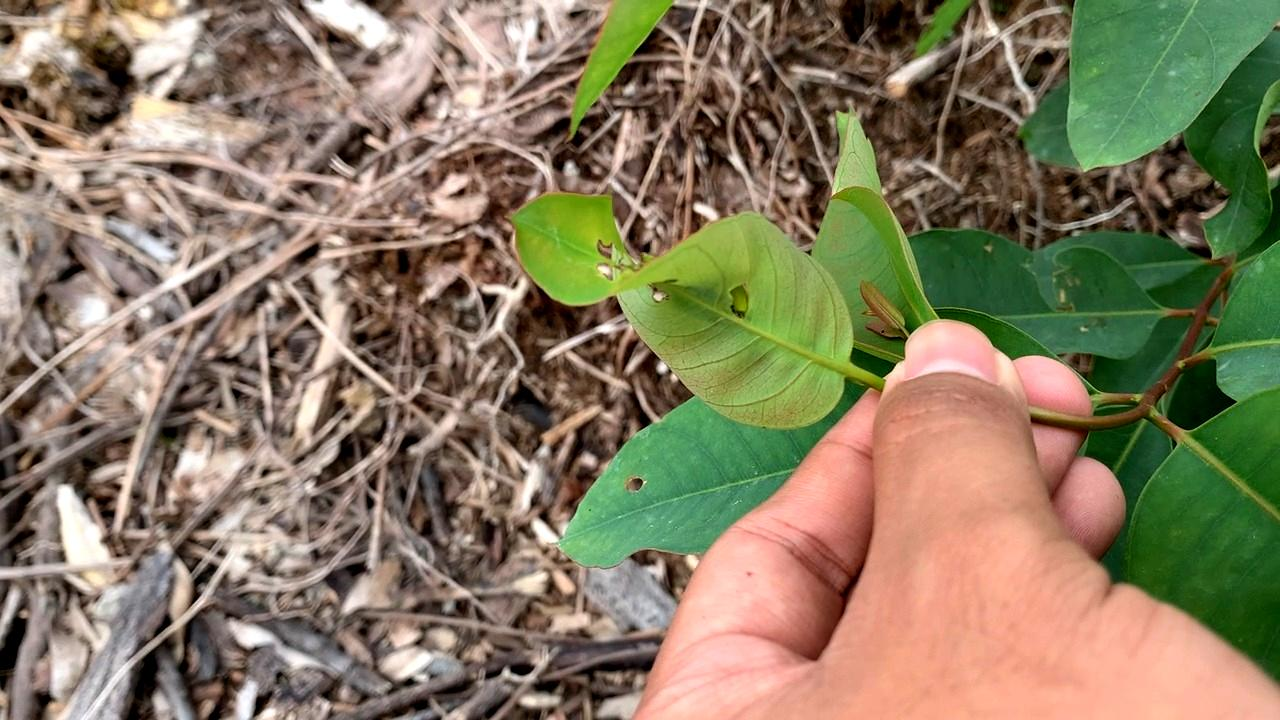Leaf Roller - Leaf: (498, 188, 850, 431)
